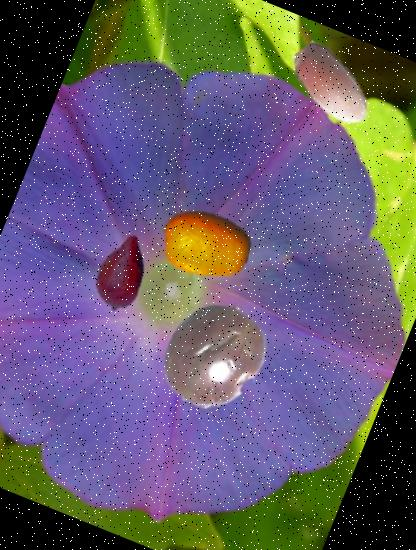Hazelnut: (268, 24, 394, 150)
Kumquats: (148, 186, 264, 302)
Passion: (141, 285, 284, 428)
Salak: (67, 220, 172, 325)
